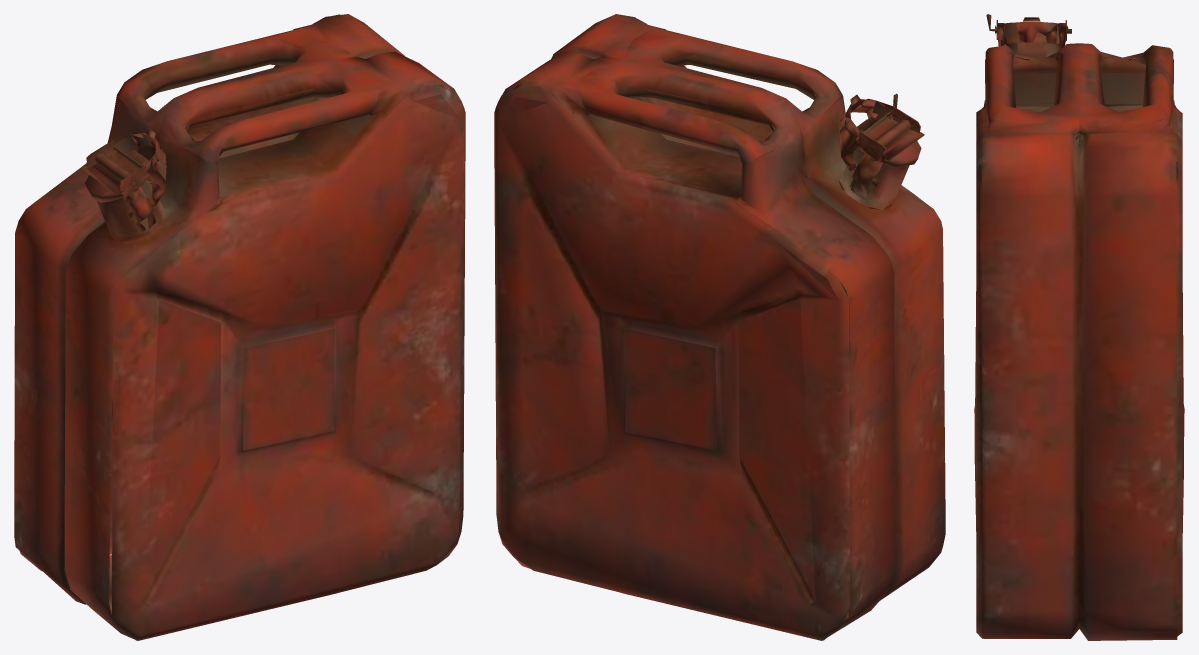
Rendered from jerrycan.glb.
3 renders of one model, left to right at view 1: azimuth 30°, elevation 25°; view 2: azimuth 150°, elevation 25°; view 3: azimuth 270°, elevation 25°, orthographic. The views are drawn at different scales.
Visible parts, largest first — view 1: metal_jerrycan; view 2: metal_jerrycan; view 3: metal_jerrycan.
Boxes of the visible parts, <box> form: metal_jerrycan: <box>14,14,465,640</box>; metal_jerrycan: <box>494,14,945,640</box>; metal_jerrycan: <box>974,14,1184,640</box>.
Bounding box in the file's own units: 0.3485 × 0.455 × 0.1723.
Materials: 1 (1 with a texture image).
